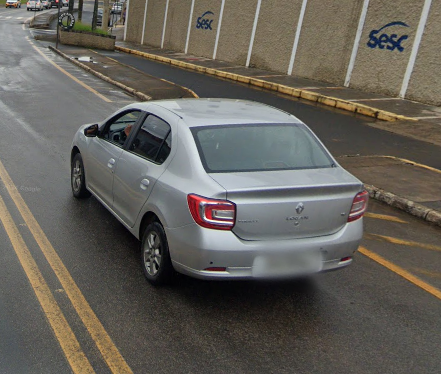car: (63, 88, 370, 309)
